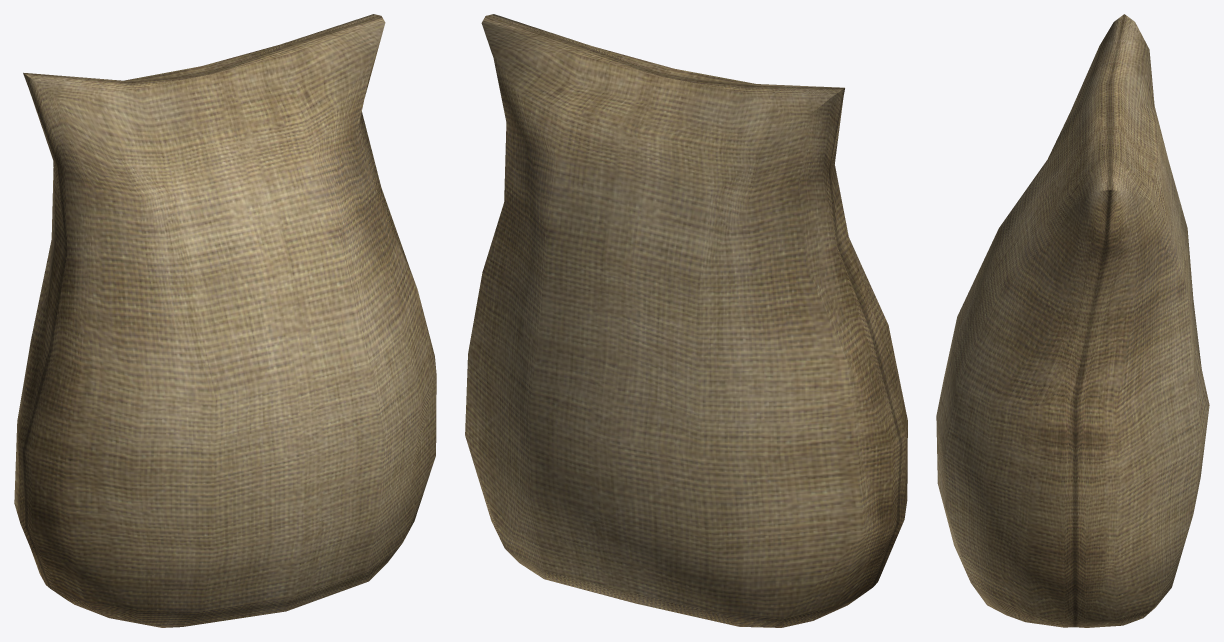
File: Sack.dae
The picture shows the model from 3 angles, left to right: view 1: azimuth 30°, elevation 25°; view 2: azimuth 150°, elevation 25°; view 3: azimuth 270°, elevation 25°; orthographic projection. The views are drawn at different scales.
Parts seen in each view (by area): view 1: GrainSack01; view 2: GrainSack01; view 3: GrainSack01.
Boxes of the visible parts, <box> form: GrainSack01: <box>14,14,436,627</box>; GrainSack01: <box>465,14,907,627</box>; GrainSack01: <box>936,14,1209,627</box>.
Bounding box in the file's own units: 26.21 × 16.81 × 32.41.
1 material, 1 textured.
